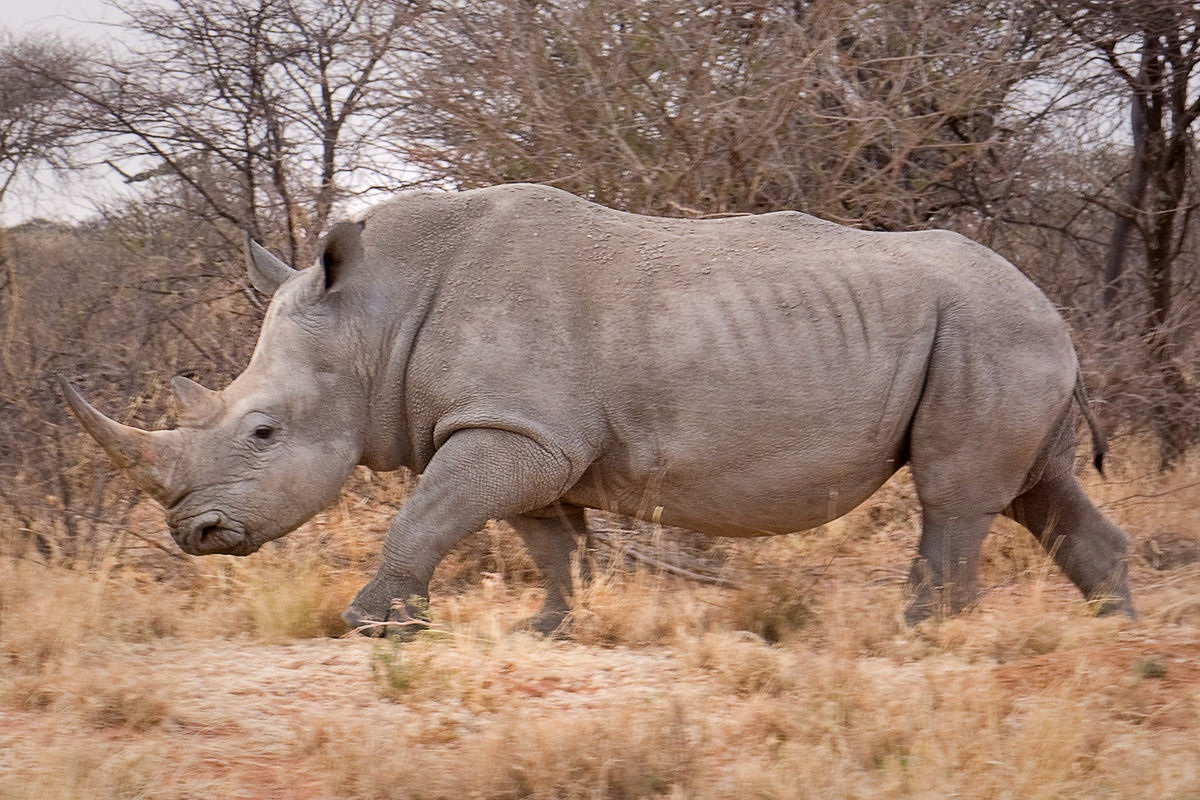rhino: (52, 178, 1140, 644)
